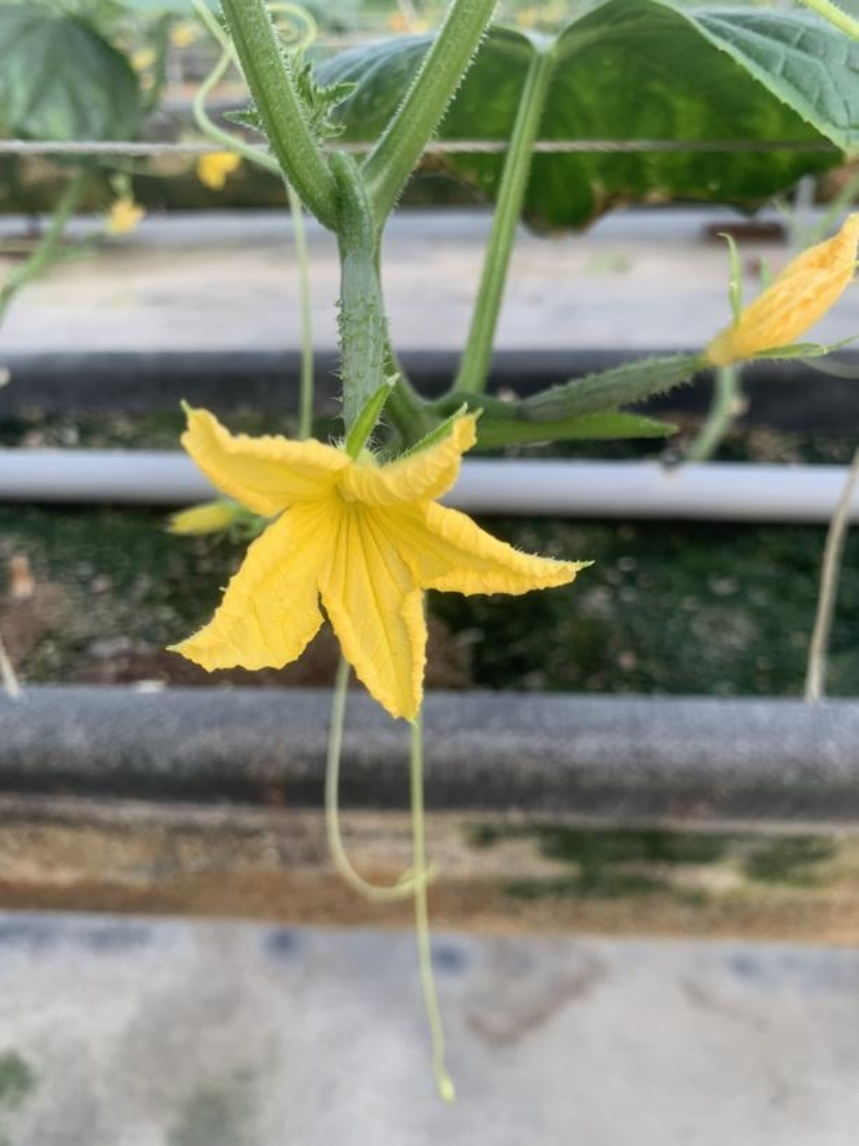bear: (517, 220, 857, 428)
